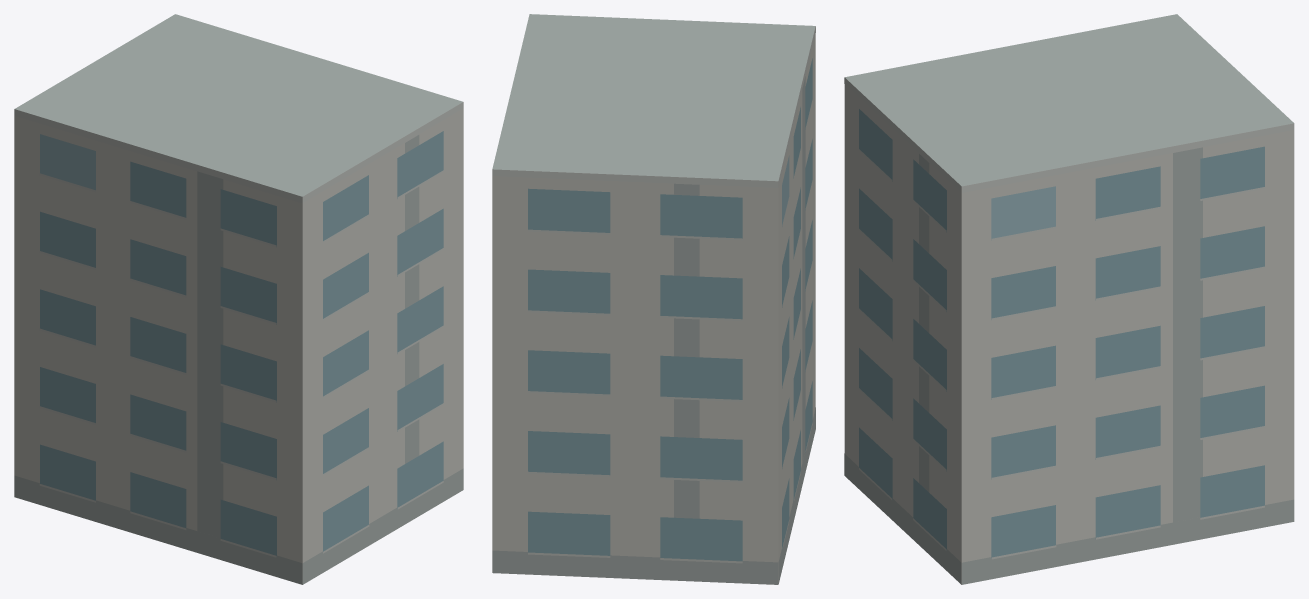
File: survey-upis-32939203.glb
The picture shows the model from 3 angles, left to right: view 1: azimuth 30°, elevation 25°; view 2: azimuth 150°, elevation 25°; view 3: azimuth 270°, elevation 25°; orthographic projection. The views are drawn at different scales.
Visible parts, largest first — view 1: survey-upis-32939203.tmp; view 2: survey-upis-32939203.tmp; view 3: survey-upis-32939203.tmp.
Part boxes in pixels (bbox=[...]): survey-upis-32939203.tmp: bbox=[14, 14, 463, 584]; survey-upis-32939203.tmp: bbox=[492, 14, 815, 584]; survey-upis-32939203.tmp: bbox=[844, 14, 1294, 584].
Size of the model in its own units: 13.42 by 14.45 by 14.8.
